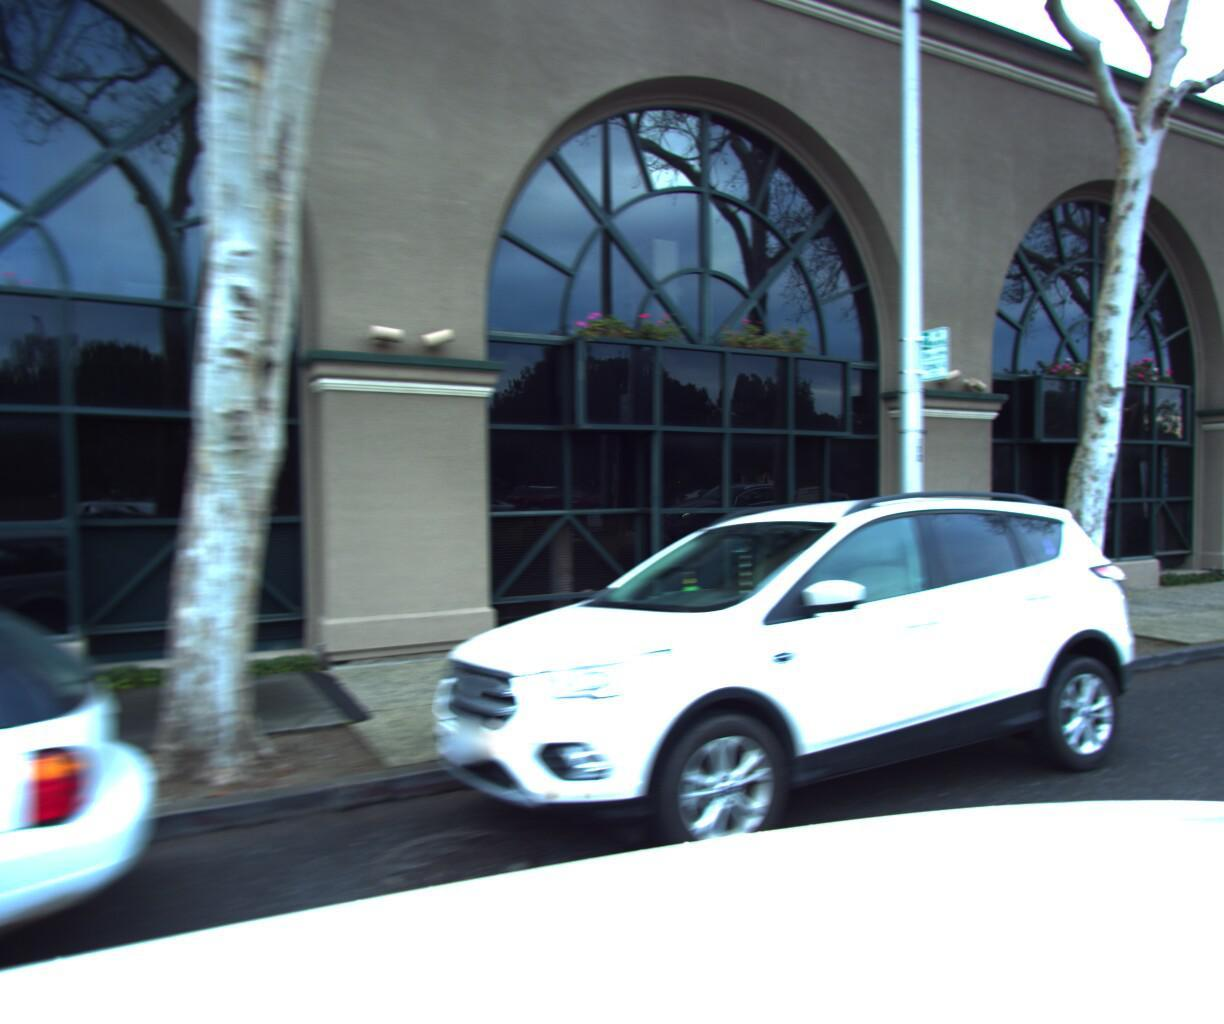car: (394, 479, 1195, 938), (0, 557, 134, 1024)
